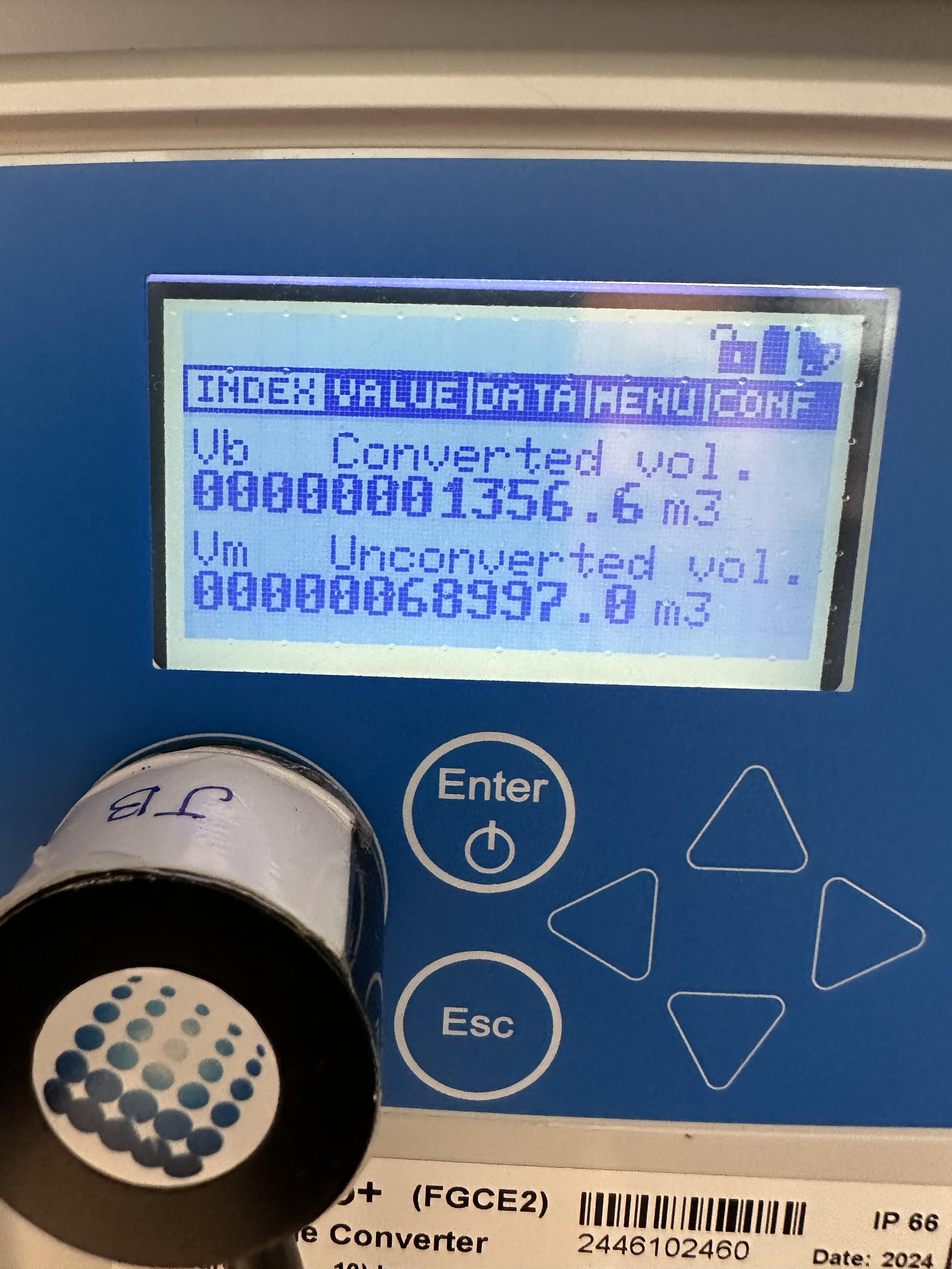digital_screen: (152, 293, 865, 691)
